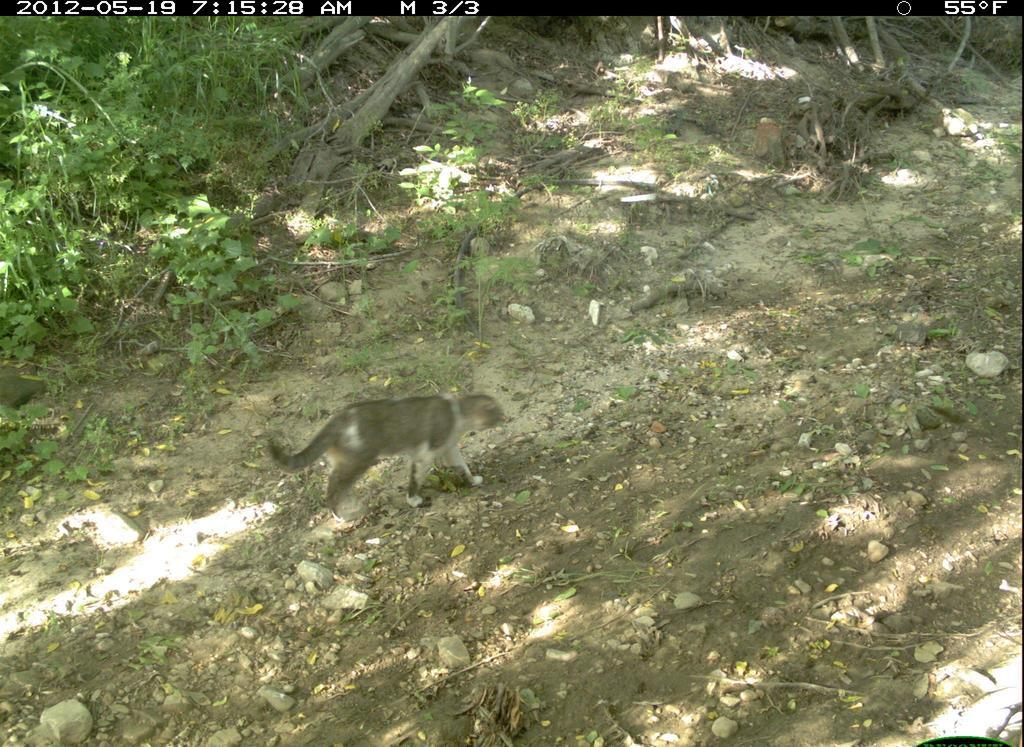cat: (260, 385, 516, 525)
